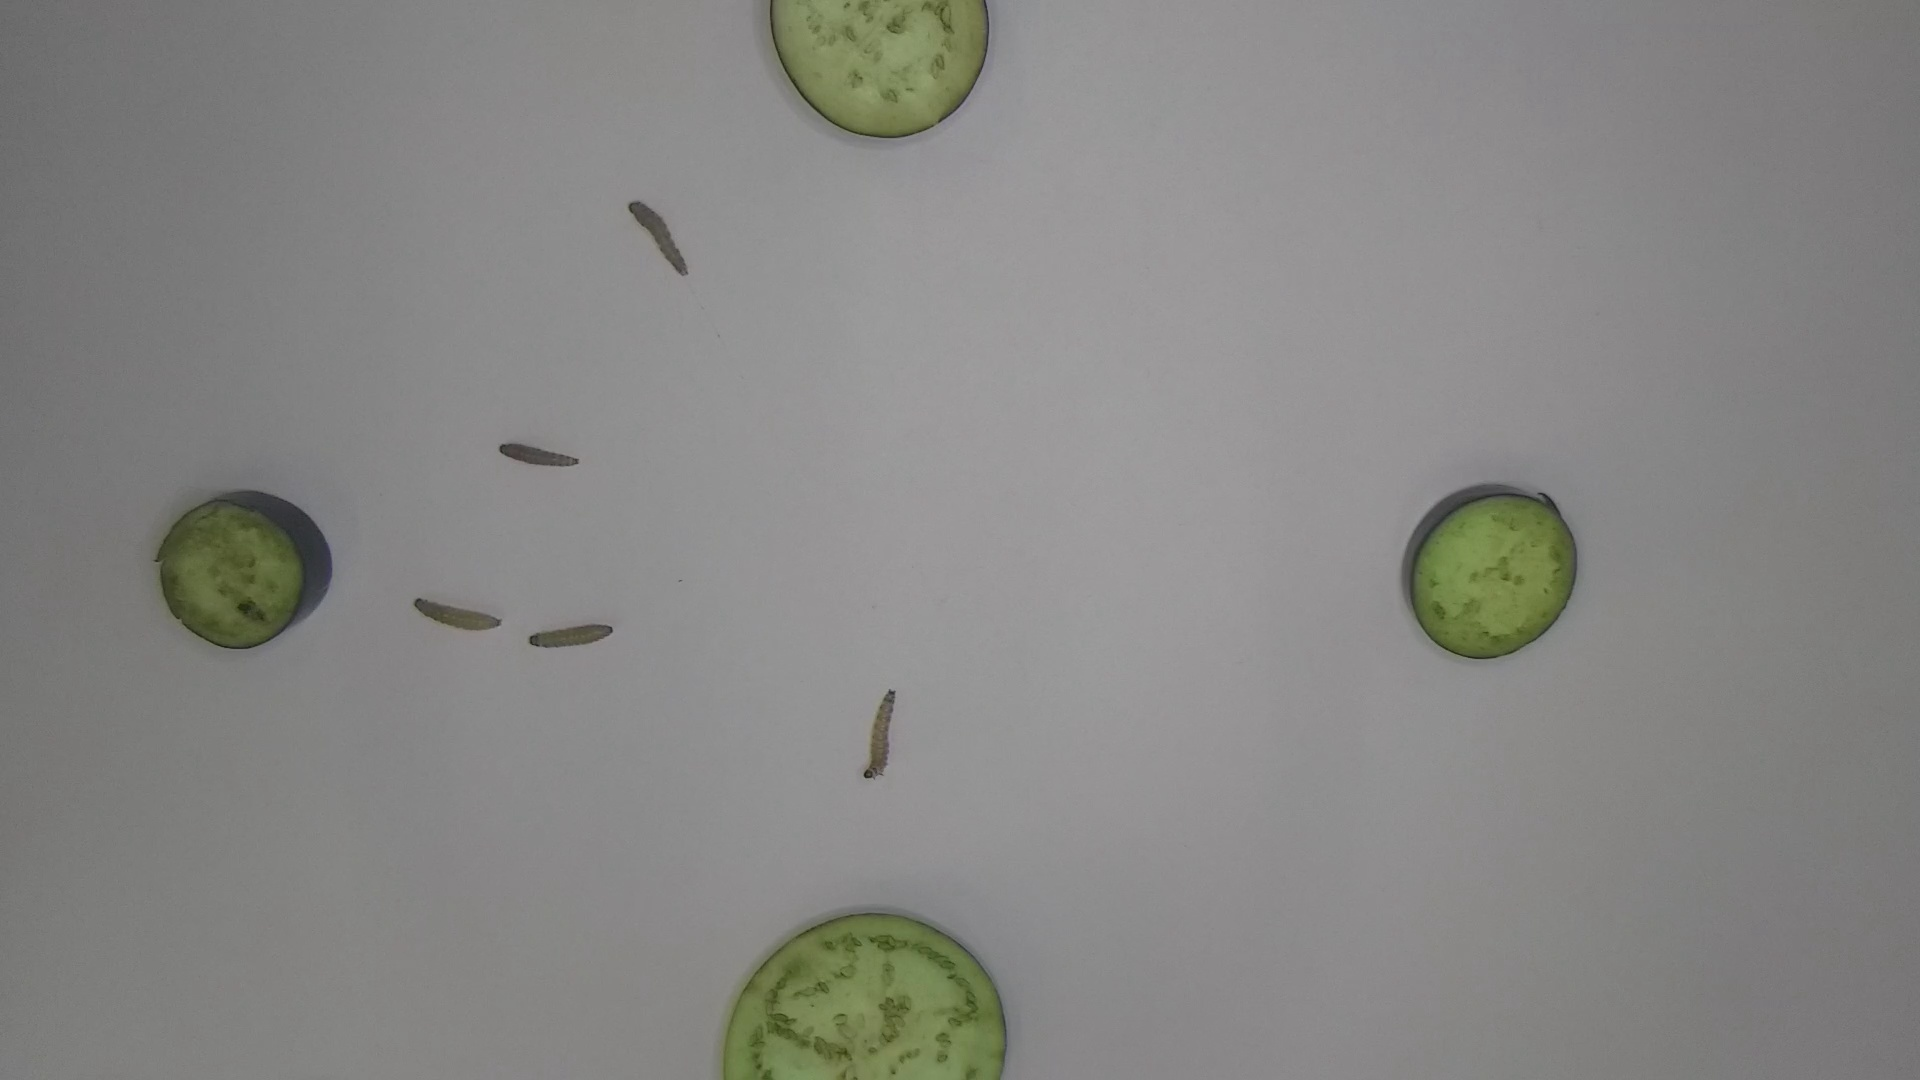efsb: (622, 195, 694, 282), (411, 592, 509, 636), (862, 680, 902, 787), (524, 620, 621, 651), (498, 439, 585, 471)
eggplant: (717, 902, 1017, 1080), (1399, 479, 1584, 669), (765, 1, 1006, 144), (152, 487, 339, 655)
